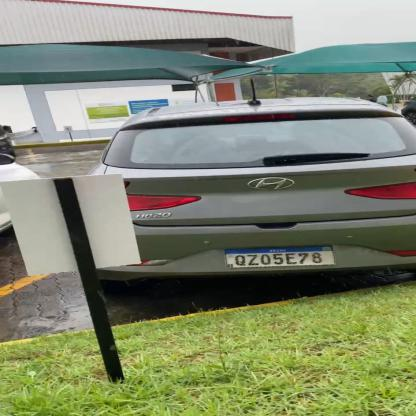Plate: (224, 242, 343, 270)
